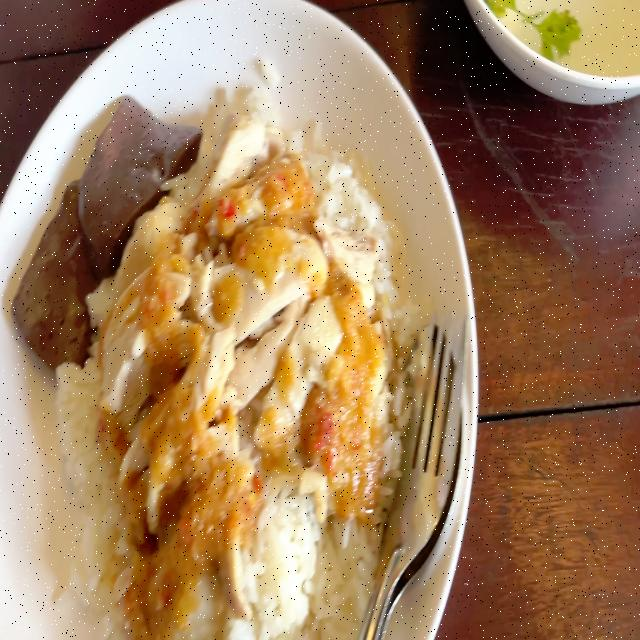boiled_chicken: (121, 185, 349, 522)
boiled_chicken_blood_jelly: (16, 182, 107, 356), (80, 100, 178, 240)
chicken_rice: (14, 75, 413, 635)
